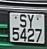2: (27, 27, 36, 44)
4: (20, 27, 28, 44)
5: (12, 26, 21, 43)
7: (35, 27, 43, 43)
S: (19, 13, 28, 30)
Y: (27, 14, 36, 30)
